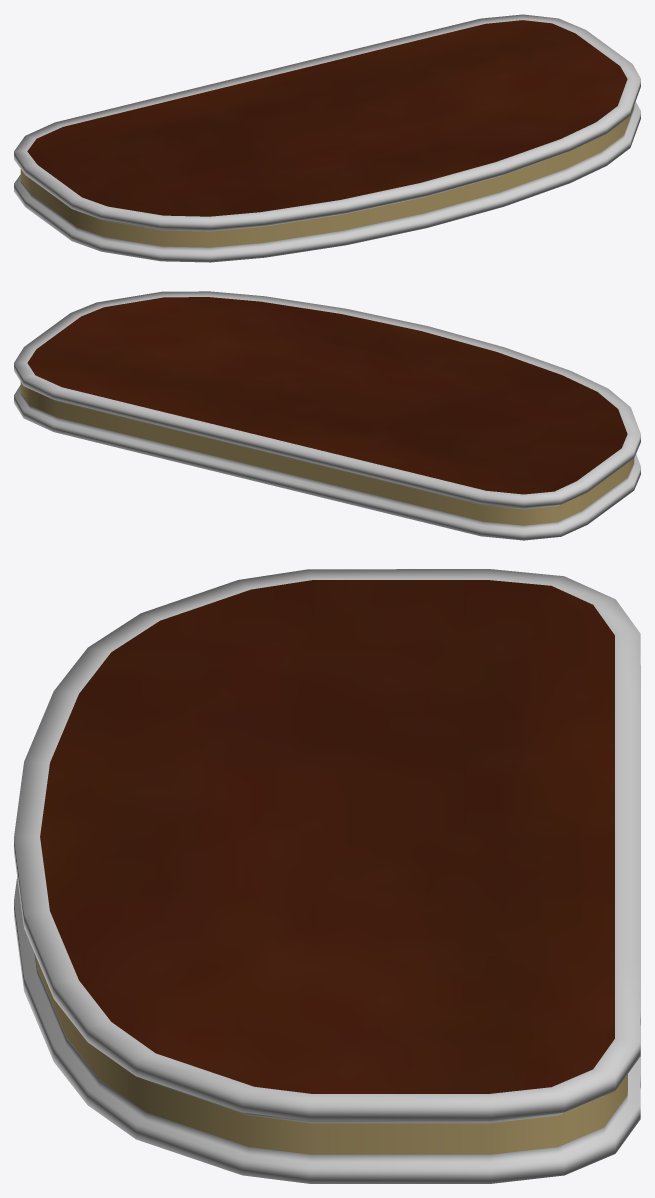
File: Palco_Auditorio_Principal.fbx
The picture shows the model from 3 angles, top to bottom: view 1: azimuth 30°, elevation 25°; view 2: azimuth 150°, elevation 25°; view 3: azimuth 270°, elevation 25°; orthographic projection. The views are drawn at different scales.
Visible parts, largest first — view 1: Palco Auditorio Maior; view 2: Palco Auditorio Maior; view 3: Palco Auditorio Maior.
Boxes of the visible parts, x1,y1,x2,y2 form: Palco Auditorio Maior: (14, 14, 640, 262); Palco Auditorio Maior: (14, 291, 640, 540); Palco Auditorio Maior: (14, 569, 640, 1183).
Size of the model in its own units: 1460 by 100 by 722.
